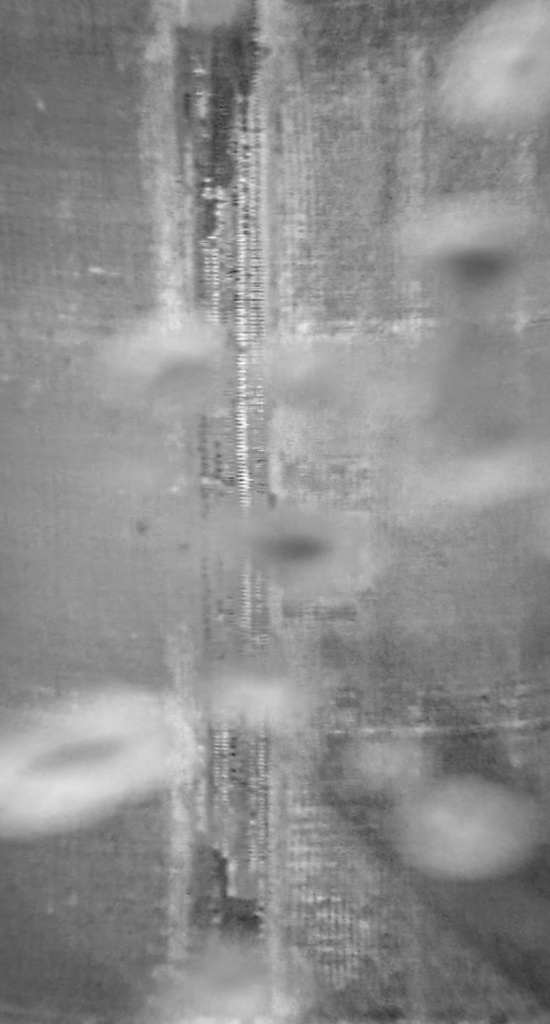splice: (177, 1, 280, 1023)
